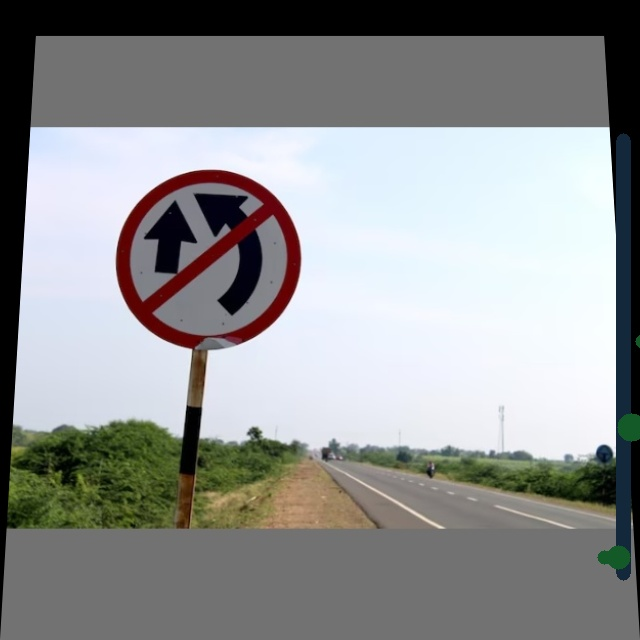Overtaking_Prohibited: (114, 169, 299, 352)
